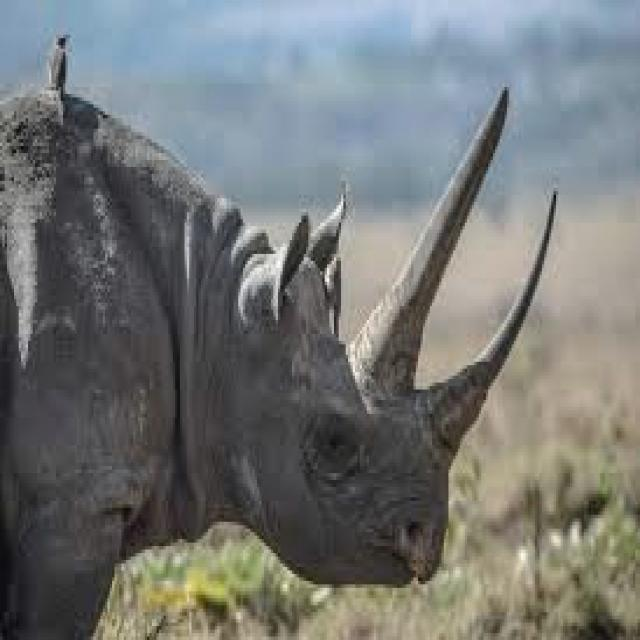rhinoceros: (0, 83, 554, 637)
